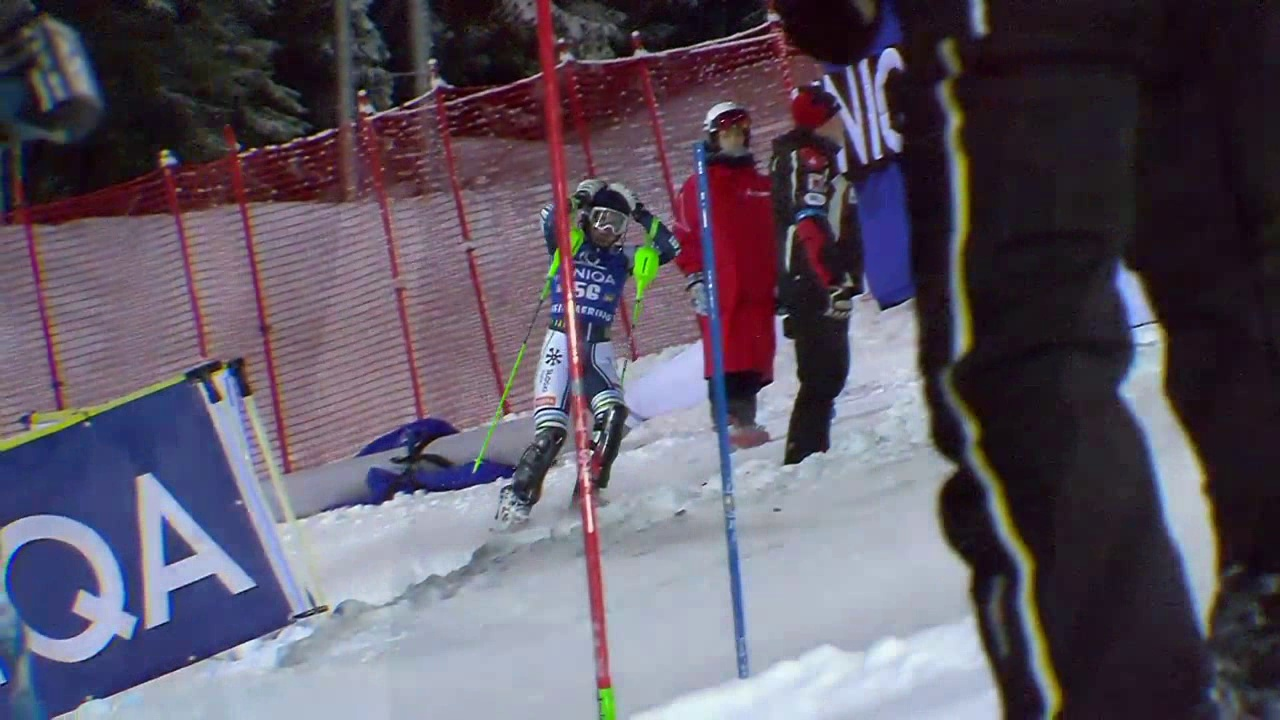uniqa: (565, 256, 617, 316)
